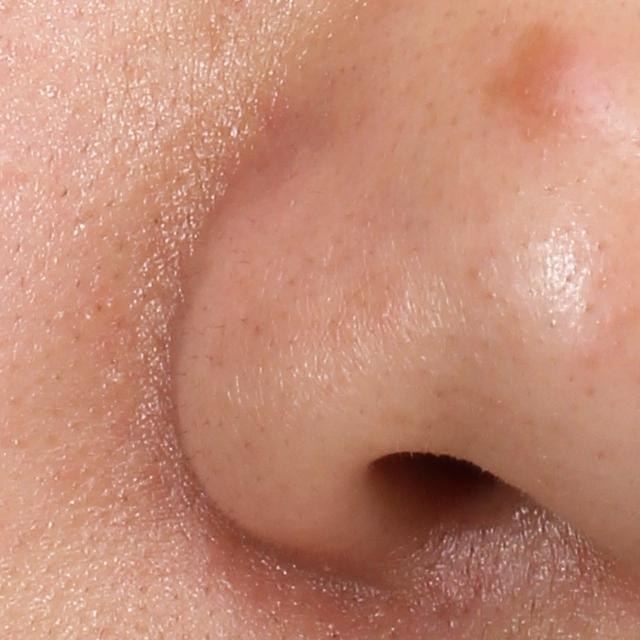papule: (509, 30, 607, 121)
